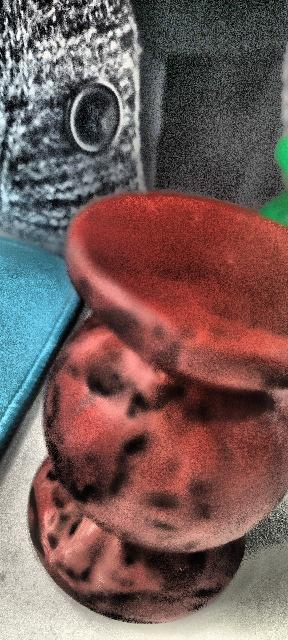red: (18, 178, 288, 630)
